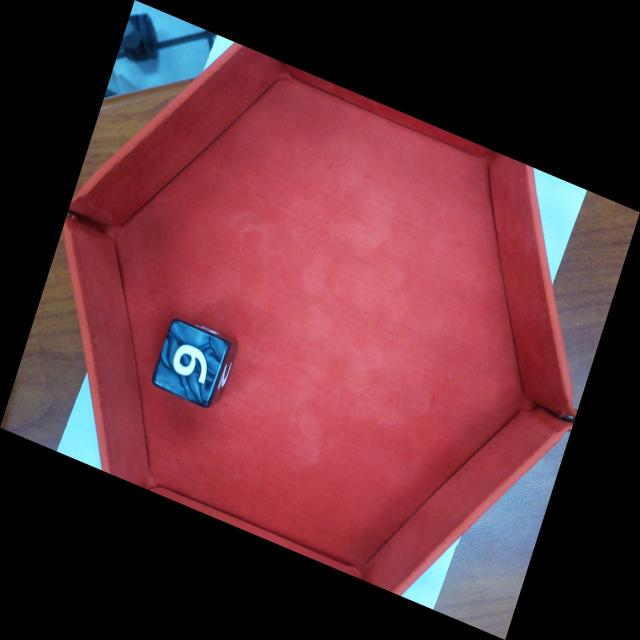dice: (154, 320, 232, 408)
